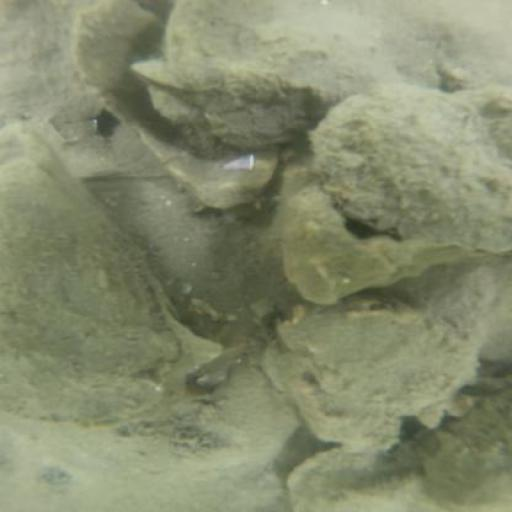Oyster-Closed: (2, 132, 176, 423), (155, 1, 453, 129), (311, 85, 509, 250), (286, 297, 486, 442), (121, 366, 291, 470), (151, 81, 307, 150)
